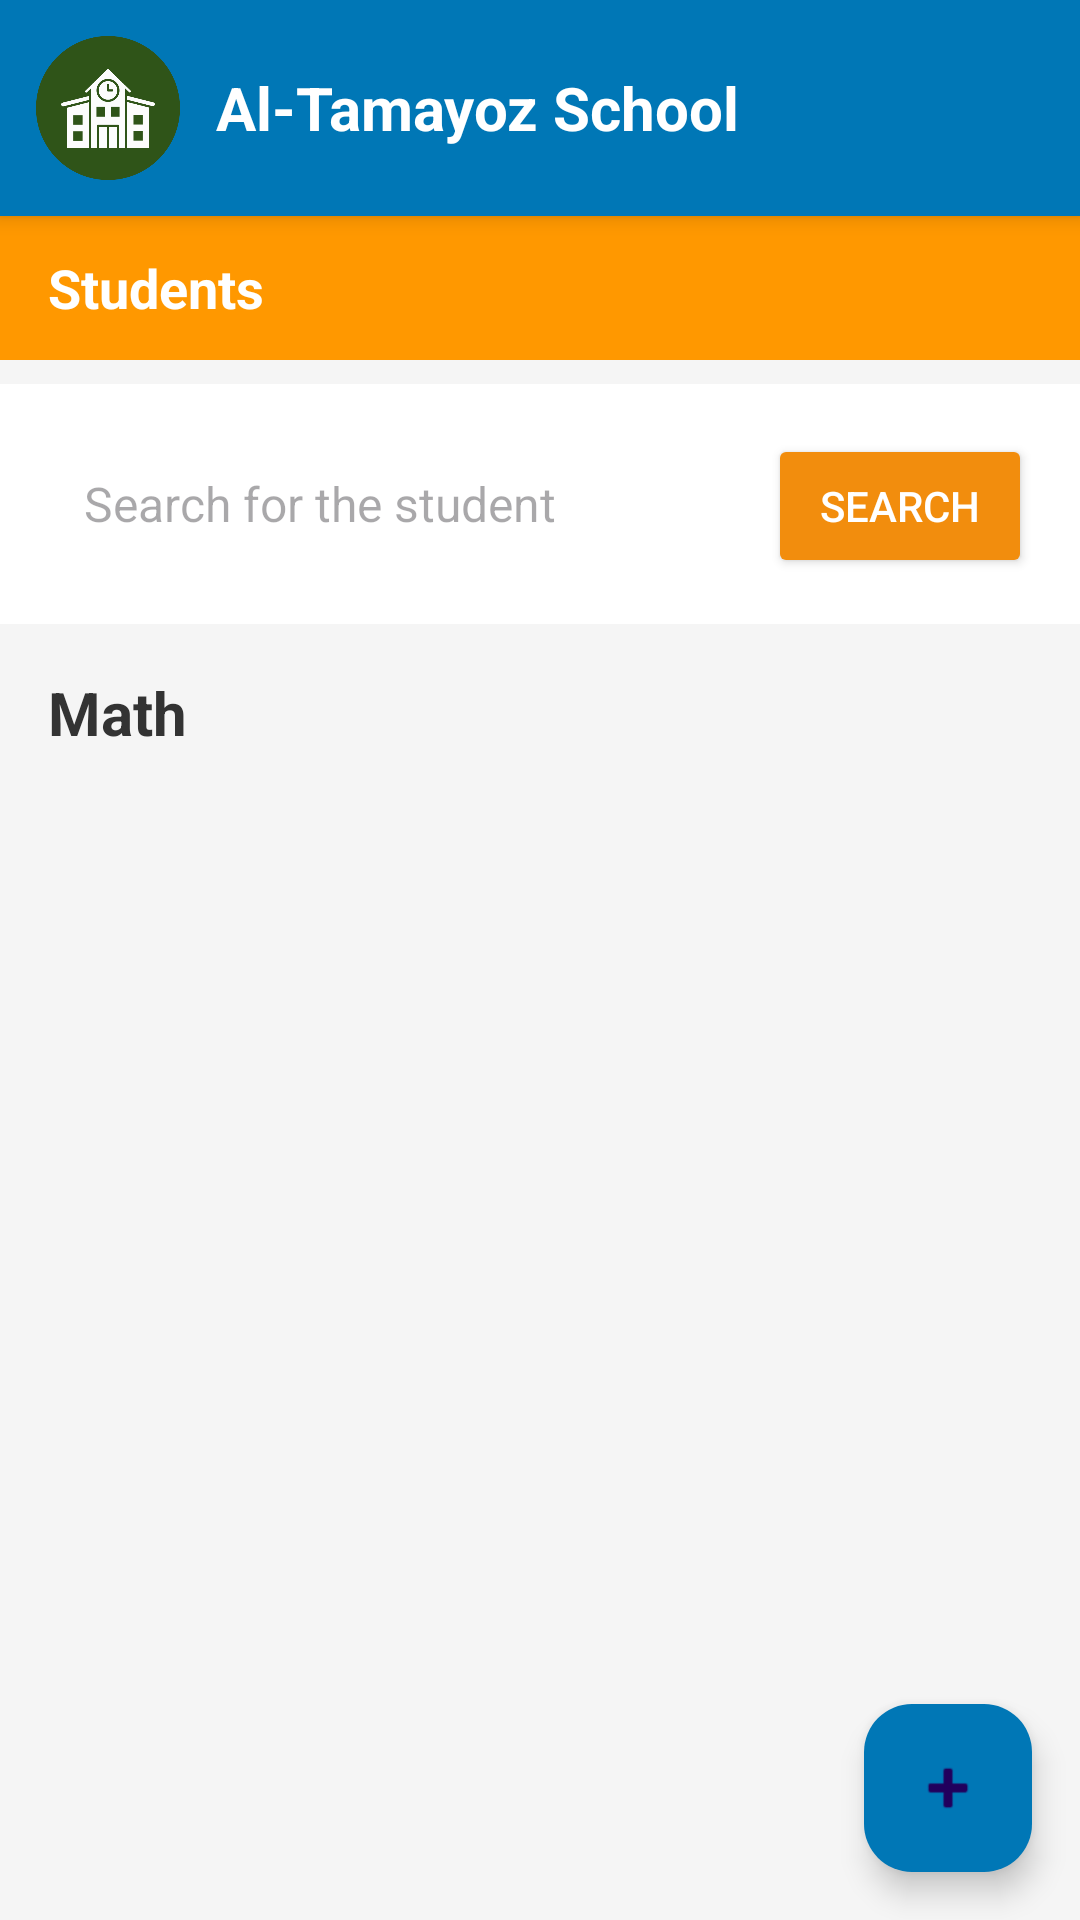

Icons on this 1080 x 1920 Android screen, each with the point to tap as point (x, y):
Add Homework: point (948, 1788)
